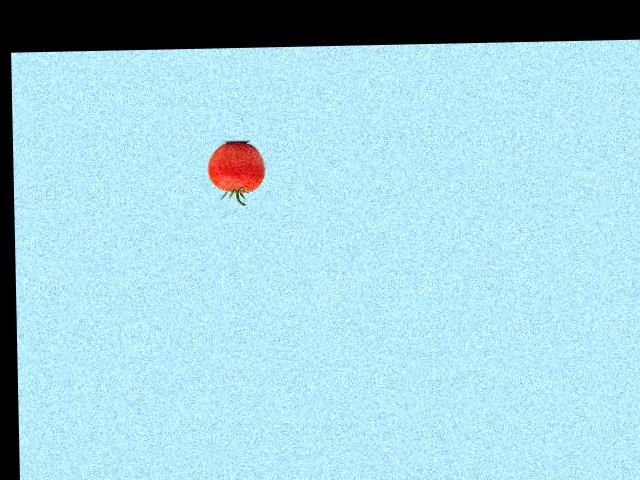tomato: (206, 141, 264, 192)
